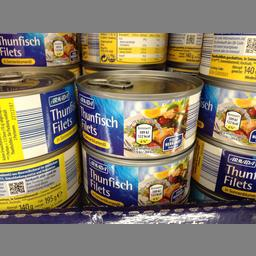fish: (80, 68, 205, 158), (0, 66, 75, 168), (80, 145, 198, 208), (1, 145, 80, 207), (196, 68, 254, 146), (191, 132, 255, 196)
